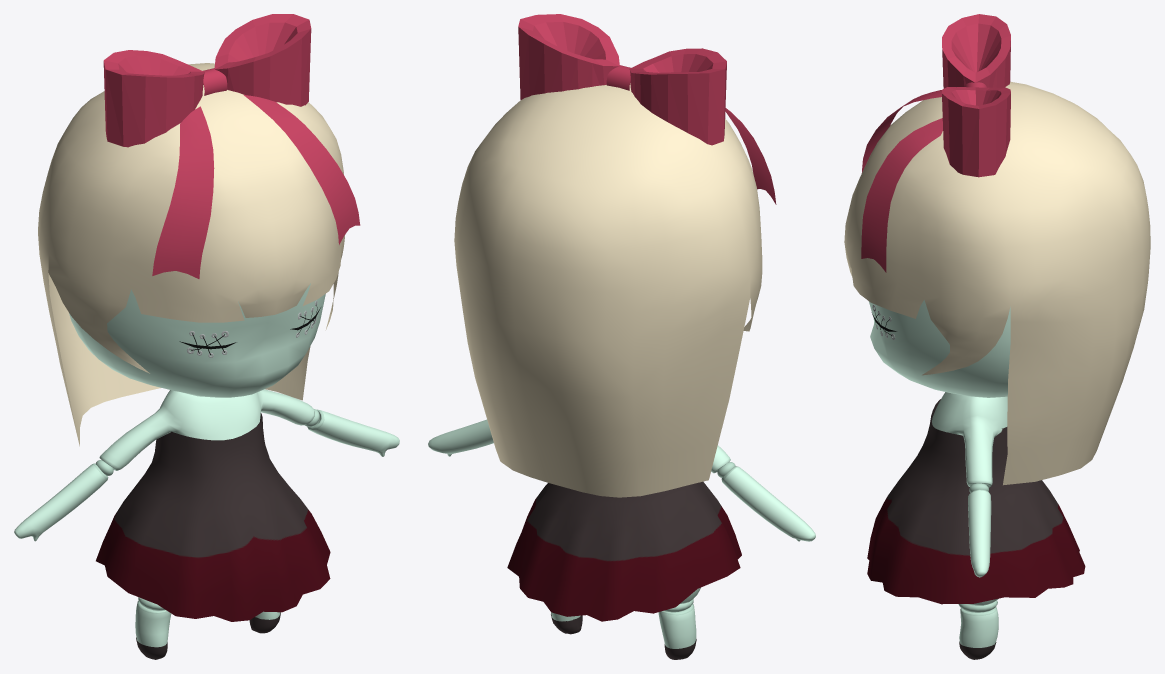
File: girl.fbx
3 views of the same model, side by side, from view 1: azimuth 30°, elevation 25°; view 2: azimuth 150°, elevation 25°; view 3: azimuth 270°, elevation 25° (orthographic). The views are drawn at different scales.
Visible parts, largest first — view 1: pPlane10, pCylinder1, polySurface1, polySurface49, pPlane14, polySurface2, polySurface35, polySurface45, polySurface3; view 2: pPlane10, pCylinder1, polySurface49, polySurface35, polySurface45, polySurface3, pPlane14; view 3: pPlane10, pCylinder1, polySurface49, polySurface1, pPlane14, polySurface2, polySurface3, polySurface45.
Boxes of the visible parts, bbox=[...] form: pPlane10: bbox=[38, 63, 344, 446]; pCylinder1: bbox=[96, 413, 330, 621]; polySurface1: bbox=[69, 283, 325, 397]; polySurface49: bbox=[103, 14, 311, 147]; pPlane14: bbox=[152, 95, 360, 278]; polySurface2: bbox=[99, 389, 314, 470]; polySurface35: bbox=[14, 463, 108, 541]; polySurface45: bbox=[135, 601, 280, 659]; polySurface3: bbox=[307, 409, 399, 456]; pPlane10: bbox=[454, 83, 762, 497]; pCylinder1: bbox=[507, 481, 741, 621]; polySurface49: bbox=[518, 14, 726, 145]; polySurface35: bbox=[721, 466, 815, 541]; polySurface45: bbox=[551, 604, 696, 659]; polySurface3: bbox=[428, 419, 493, 456]; pPlane14: bbox=[725, 108, 776, 204]; pPlane10: bbox=[844, 81, 1150, 485]; pCylinder1: bbox=[867, 399, 1085, 604]; polySurface49: bbox=[942, 14, 1010, 177]; polySurface1: bbox=[869, 300, 1010, 397]; pPlane14: bbox=[861, 90, 942, 272]; polySurface2: bbox=[932, 392, 1007, 487]; polySurface3: bbox=[968, 489, 991, 577]; polySurface45: bbox=[959, 606, 998, 659].
Bounding box in the file's own units: 7.04 × 10.51 × 5.09.
